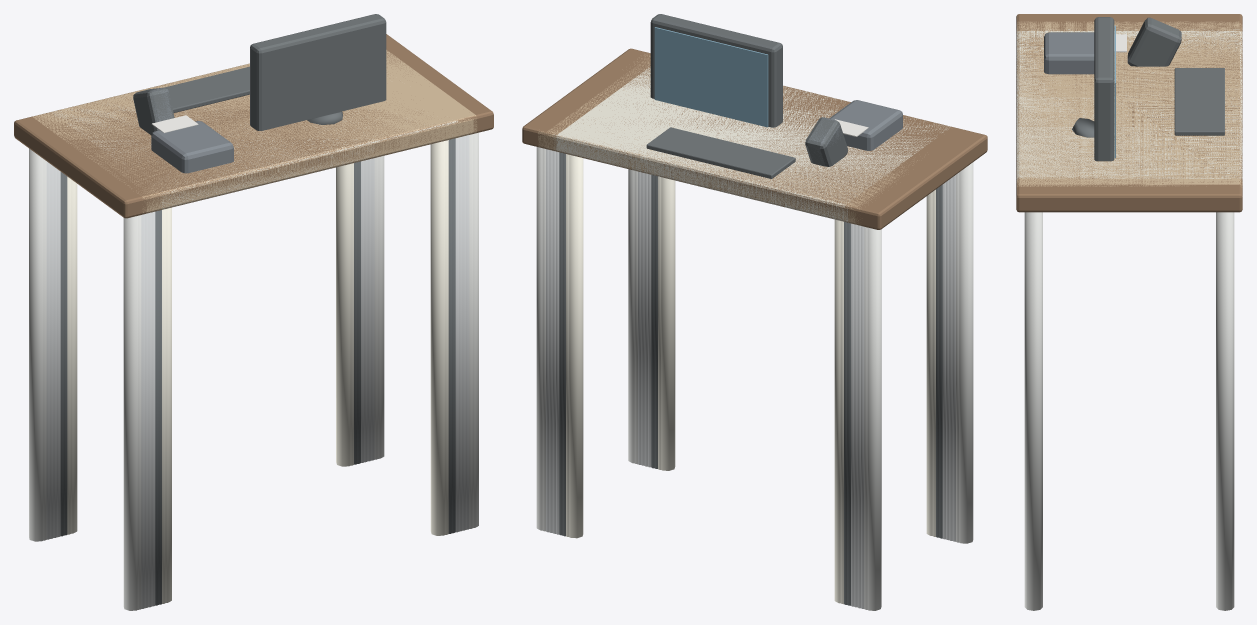
Rendered from Gear07.fbx.
3 renders of one model, left to right at view 1: azimuth 30°, elevation 25°; view 2: azimuth 150°, elevation 25°; view 3: azimuth 270°, elevation 25°, orthographic. The views are drawn at different scales.
Visible parts, largest first — view 1: Gear07_V10_Walnut, Gear07_V1_Ivory, Gear07_V10_Chrome, Gear07_V1_Charcoal, Gear07_V6_Oak, Gear07_V3_Charcoal, Gear07_V4_Oak, Gear07_V3_Oak, Gear07_V8_BrushedSteel, Gear07_V5_BrushedSteel, Gear07_V9_Chrome, Gear07_V7_BrushedSteel (+10 smaller); view 2: Gear07_V1_Ivory, Gear07_V10_Walnut, Gear07_V10_Chrome, Gear07_V3_Charcoal, Gear07_V1_ScreenUI, Gear07_V2_Ivory, Gear07_V4_Charcoal, Gear07_V9_Chrome, Gear07_V8_BrushedSteel, Gear07_V7_BrushedSteel, Gear07_V6_BrushedSteel, Gear07_V5_BrushedSteel (+8 smaller); view 3: Gear07_V5_Oak, Gear07_V10_Chrome, Gear07_V10_Walnut, Gear07_V1_Ivory, Gear07_V2_Ivory, Gear07_V1_Charcoal, Gear07_V9_Walnut, Gear07_V10_Charcoal, Gear07_V3_Charcoal, Gear07_V7_Walnut, Gear07_V10_Graphite, Gear07_V6_Oak (+4 smaller).
Part boxes in pixels (<box>): Gear07_V10_Walnut: <box>14,34,493,218</box>; Gear07_V1_Ivory: <box>53,97,457,602</box>; Gear07_V10_Chrome: <box>29,132,478,610</box>; Gear07_V1_Charcoal: <box>133,14,386,134</box>; Gear07_V6_Oak: <box>33,50,477,213</box>; Gear07_V3_Charcoal: <box>64,14,451,604</box>; Gear07_V4_Oak: <box>40,58,469,212</box>; Gear07_V3_Oak: <box>44,61,465,210</box>; Gear07_V8_BrushedSteel: <box>46,135,469,608</box>; Gear07_V5_BrushedSteel: <box>57,137,458,606</box>; Gear07_V9_Chrome: <box>43,134,472,609</box>; Gear07_V7_BrushedSteel: <box>50,136,465,608</box>; Gear07_V1_Ivory: <box>556,66,950,603</box>; Gear07_V10_Walnut: <box>522,48,987,229</box>; Gear07_V10_Chrome: <box>536,147,973,610</box>; Gear07_V3_Charcoal: <box>562,14,939,604</box>; Gear07_V1_ScreenUI: <box>654,27,768,127</box>; Gear07_V2_Ivory: <box>553,64,950,604</box>; Gear07_V4_Charcoal: <box>559,18,942,605</box>; Gear07_V9_Chrome: <box>542,148,959,609</box>; Gear07_V8_BrushedSteel: <box>546,149,955,608</box>; Gear07_V7_BrushedSteel: <box>549,150,952,608</box>; Gear07_V6_BrushedSteel: <box>552,151,949,607</box>; Gear07_V5_BrushedSteel: <box>556,151,945,606</box>; Gear07_V5_Oak: <box>1017,23,1242,184</box>; Gear07_V10_Chrome: <box>1024,212,1234,610</box>; Gear07_V10_Walnut: <box>1016,14,1242,212</box>; Gear07_V1_Ivory: <box>1016,31,1242,178</box>; Gear07_V2_Ivory: <box>1016,29,1242,179</box>; Gear07_V1_Charcoal: <box>1072,17,1181,161</box>; Gear07_V9_Walnut: <box>1016,16,1242,193</box>; Gear07_V10_Charcoal: <box>1174,68,1224,135</box>; Gear07_V3_Charcoal: <box>1072,17,1181,160</box>; Gear07_V7_Walnut: <box>1016,19,1242,188</box>; Gear07_V10_Graphite: <box>1045,32,1181,71</box>; Gear07_V6_Oak: <box>1016,21,1242,186</box>.
Bounding box in the file's own units: 85.75 × 110 × 45.
